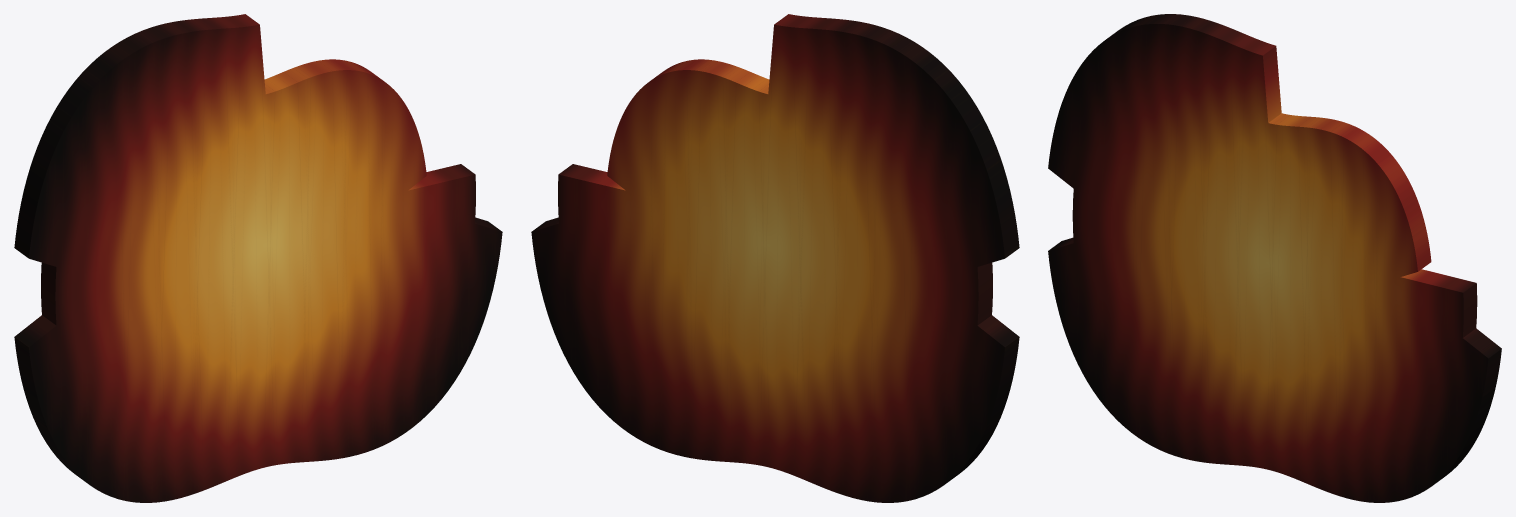
File: gibson_style_les_paul_cherry_sunburst.glb
3 renders of one model, left to right at view 1: azimuth 30°, elevation 25°; view 2: azimuth 150°, elevation 25°; view 3: azimuth 330°, elevation 25°, orthographic. The views are drawn at different scales.
Visible parts, largest first — view 1: BODY; view 2: BODY; view 3: BODY.
Part boxes in pixels (x1,y1,x2,y2): BODY: (14,14,502,502); BODY: (531,14,1019,502); BODY: (1048,14,1501,502).
Size of the model in its own units: 2.26 by 2.12 by 0.12.
1 material, 1 textured.
